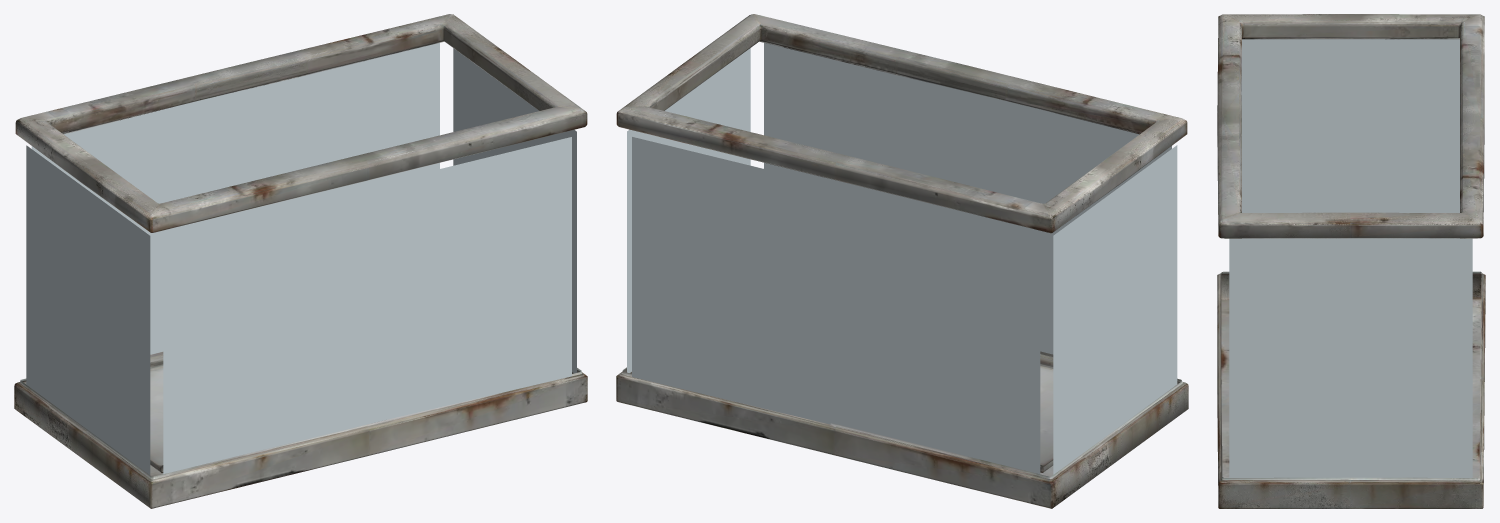
Rendered from fish-tank.glb.
3 views of the same model, side by side, from view 1: azimuth 30°, elevation 25°; view 2: azimuth 150°, elevation 25°; view 3: azimuth 270°, elevation 25° (orthographic).
Parts seen in each view (by area): view 1: fish_tank_cleaned; view 2: fish_tank_cleaned; view 3: fish_tank_cleaned.
Boxes of the visible parts, <box> form: fish_tank_cleaned: <box>14,14,587,508</box>; fish_tank_cleaned: <box>616,14,1188,508</box>; fish_tank_cleaned: <box>1217,14,1485,508</box>.
Size of the model in its own units: 1.9 by 1.21 by 1.03.
Materials: 2 (1 with a texture image).
